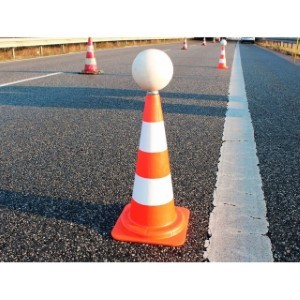traffic cone: (110, 90, 190, 246), (78, 35, 104, 75), (216, 47, 229, 68), (180, 36, 189, 49)
